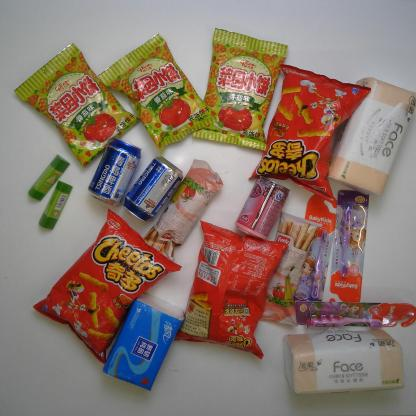Alcohol: (122, 151, 183, 222), (87, 139, 141, 205)
Canned Food: (239, 177, 284, 241)
Dessert: (257, 211, 323, 326), (158, 160, 220, 256)
Personal Hygiene: (290, 292, 415, 338), (291, 193, 338, 311), (330, 185, 369, 312)
Puffed Food: (32, 211, 183, 365), (249, 61, 374, 212), (12, 42, 142, 166), (174, 218, 286, 360), (102, 32, 214, 148), (192, 28, 288, 152)
Stationery: (31, 150, 74, 232), (39, 180, 72, 232)
Tissue: (272, 324, 409, 404), (327, 78, 414, 196), (98, 297, 184, 396)
